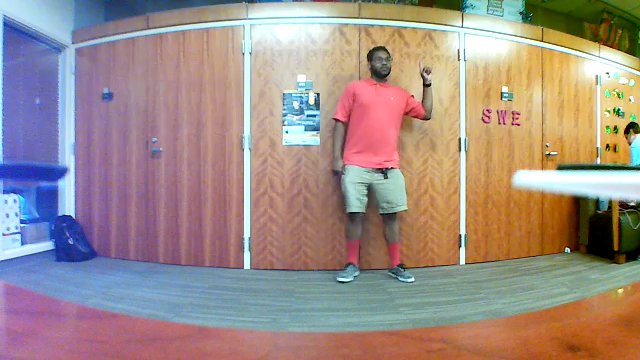up: (417, 57, 434, 83)
